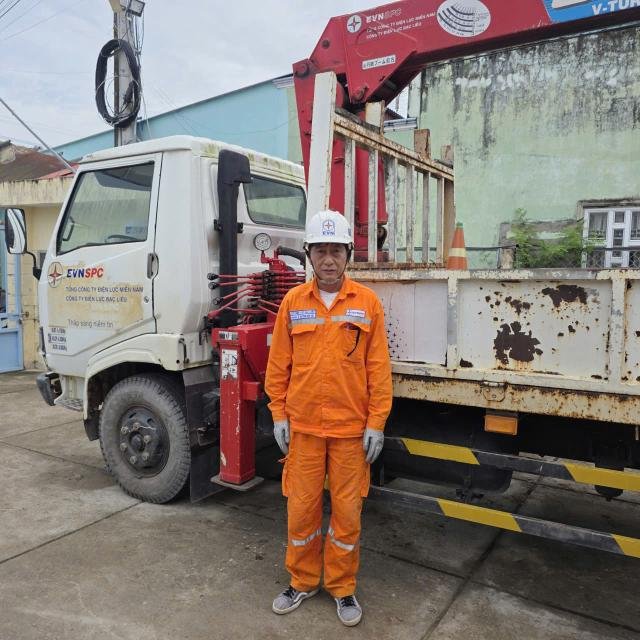gloves: (254, 409, 303, 463), (358, 407, 392, 479)
helmet: (301, 204, 358, 256)
shoes: (257, 564, 323, 634), (330, 579, 383, 639)
